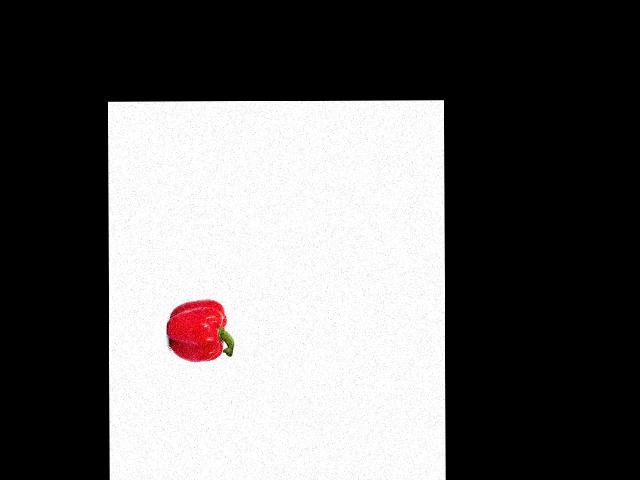bell_pepper: (167, 295, 235, 363)
